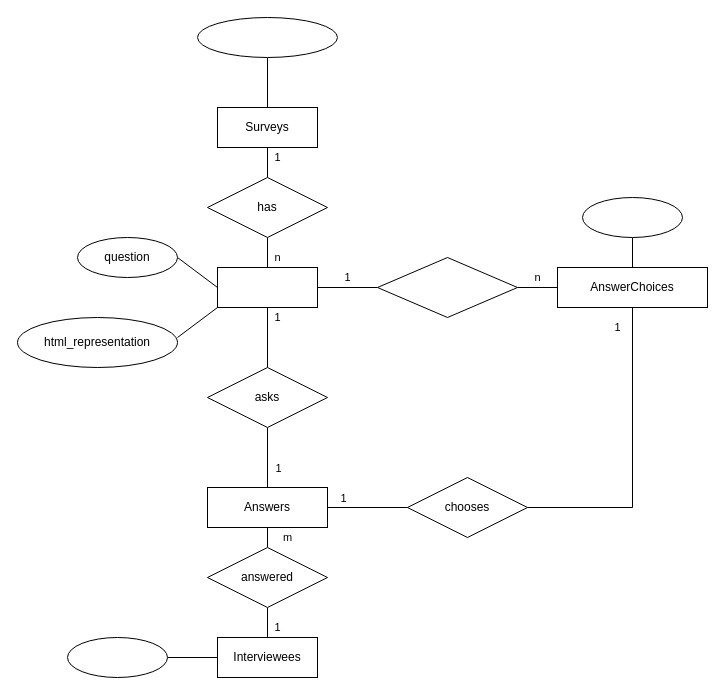
This 725x695 diagram has some shape labels left out. The centre of each missing label's shape, as x and y in pixels:
"answer" belongs at [632,217].
"date" belongs at [117,657].
"possible_anwers" belongs at [447,287].
"Questions" belongs at [267,287].
"survey_title" belongs at [267,37].
